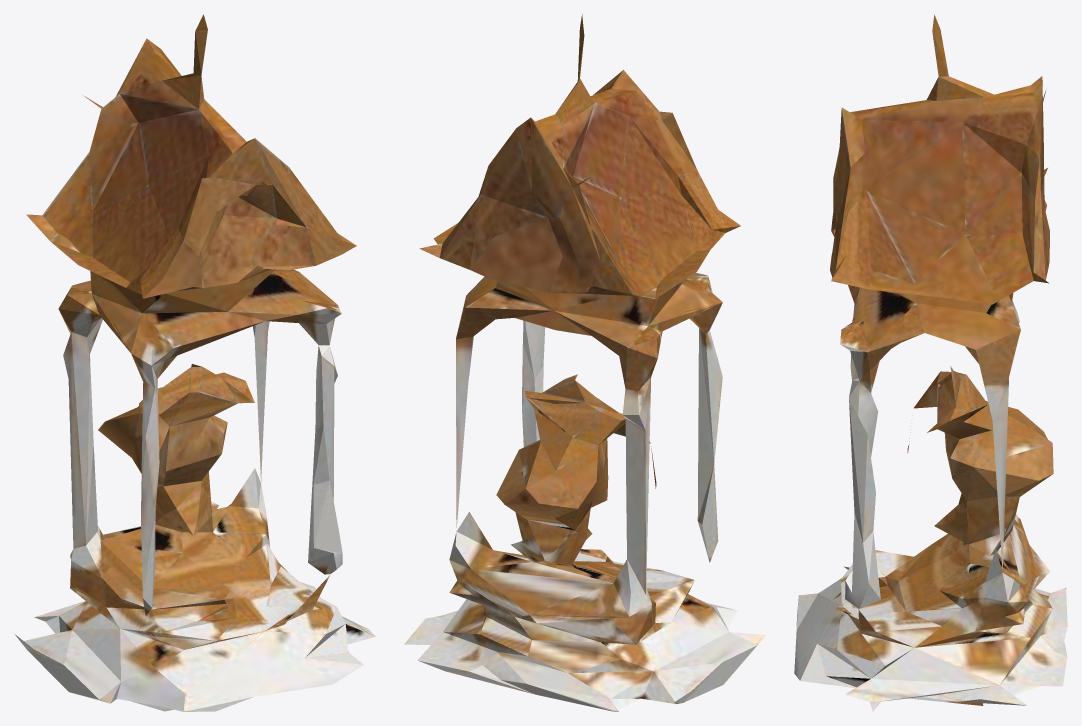
File: spirit_house_low.glb
The picture shows the model from 3 angles, left to right: view 1: azimuth 30°, elevation 25°; view 2: azimuth 150°, elevation 25°; view 3: azimuth 270°, elevation 25°; orthographic projection.
Visible parts, largest first — view 1: output_unwrapped; view 2: output_unwrapped; view 3: output_unwrapped.
Boxes of the visible parts, bbox=[...] form: output_unwrapped: bbox=[15, 14, 375, 711]; output_unwrapped: bbox=[404, 14, 765, 711]; output_unwrapped: bbox=[794, 14, 1067, 711].
Bounding box in the file's own units: 0.9712 × 2.2 × 0.8318.
Materials: 1 (1 with a texture image).
